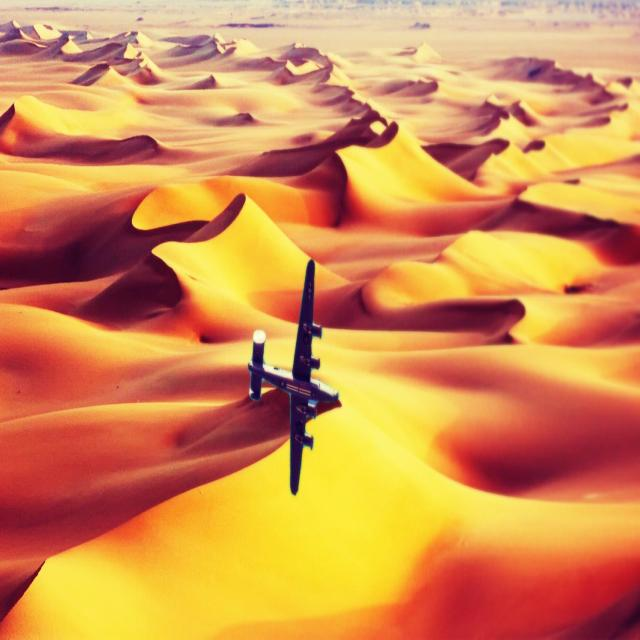airplane: (247, 258, 342, 496)
